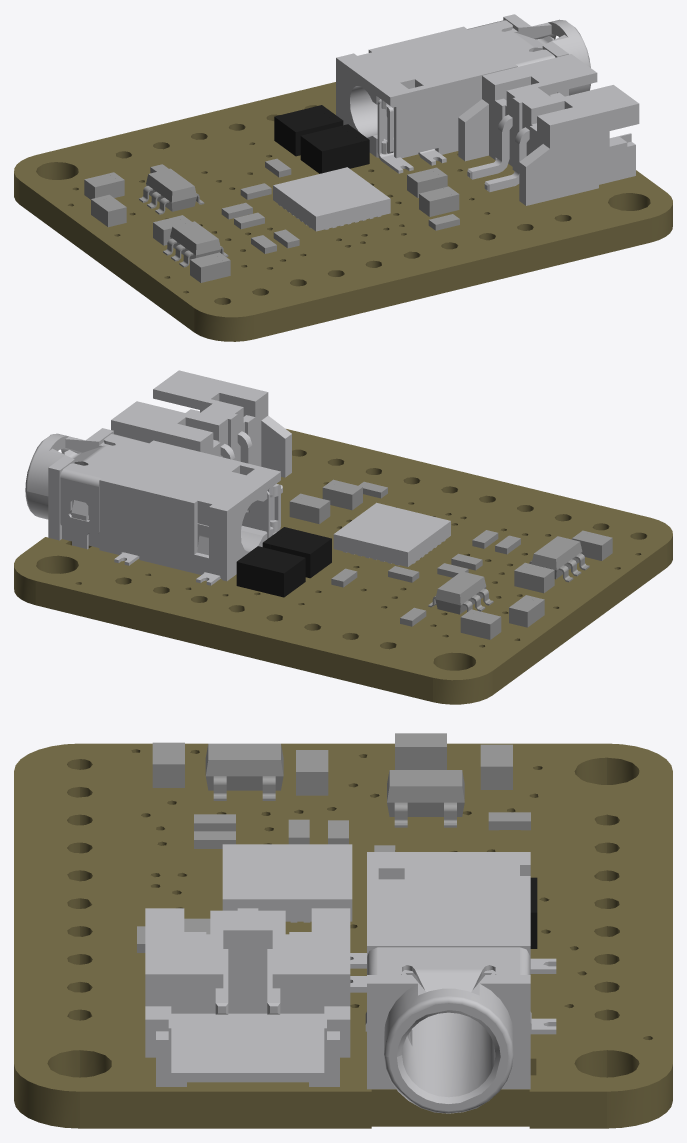
File: ada-6309.glb
The picture shows the model from 3 angles, top to bottom: view 1: azimuth 30°, elevation 25°; view 2: azimuth 150°, elevation 25°; view 3: azimuth 270°, elevation 25°; orthographic projection. The views are drawn at different scales.
Parts seen in each view (by area): view 1: 0.16666666666666666_0.16666666666666666_0.08333333333333333_, 0.5833333333333334_0.5833333333333334_0.5833333333333334_0.8, 0.3333333333333333_0.3333333333333333_0.3333333333333333_0, 0_0_0_0; view 2: 0.16666666666666666_0.16666666666666666_0.08333333333333333_, 0.5833333333333334_0.5833333333333334_0.5833333333333334_0.8, 0.3333333333333333_0.3333333333333333_0.3333333333333333_0, 0_0_0_0; view 3: 0.16666666666666666_0.16666666666666666_0.08333333333333333_, 0.5833333333333334_0.5833333333333334_0.5833333333333334_0.8, 0.3333333333333333_0.3333333333333333_0.3333333333333333_0.
Part boxes in pixels (bbox=[...]): 0.16666666666666666_0.16666666666666666_0.08333333333333333_: bbox=[14, 82, 672, 341]; 0.5833333333333334_0.5833333333333334_0.5833333333333334_0.8: bbox=[273, 14, 639, 231]; 0.3333333333333333_0.3333333333333333_0.3333333333333333_0: bbox=[84, 158, 459, 282]; 0_0_0_0: bbox=[274, 105, 369, 173]; 0.16666666666666666_0.16666666666666666_0.08333333333333333_: bbox=[14, 429, 672, 704]; 0.5833333333333334_0.5833333333333334_0.5833333333333334_0.8: bbox=[25, 370, 450, 585]; 0.3333333333333333_0.3333333333333333_0.3333333333333333_0: bbox=[289, 479, 612, 639]; 0_0_0_0: bbox=[236, 527, 331, 597]; 0.16666666666666666_0.16666666666666666_0.08333333333333333_: bbox=[14, 743, 672, 1128]; 0.5833333333333334_0.5833333333333334_0.5833333333333334_0.8: bbox=[145, 844, 556, 1113]; 0.3333333333333333_0.3333333333333333_0.3333333333333333_0: bbox=[137, 733, 530, 952].
Size of the model in its own units: 3.35 by 0.6373 by 2.54.
